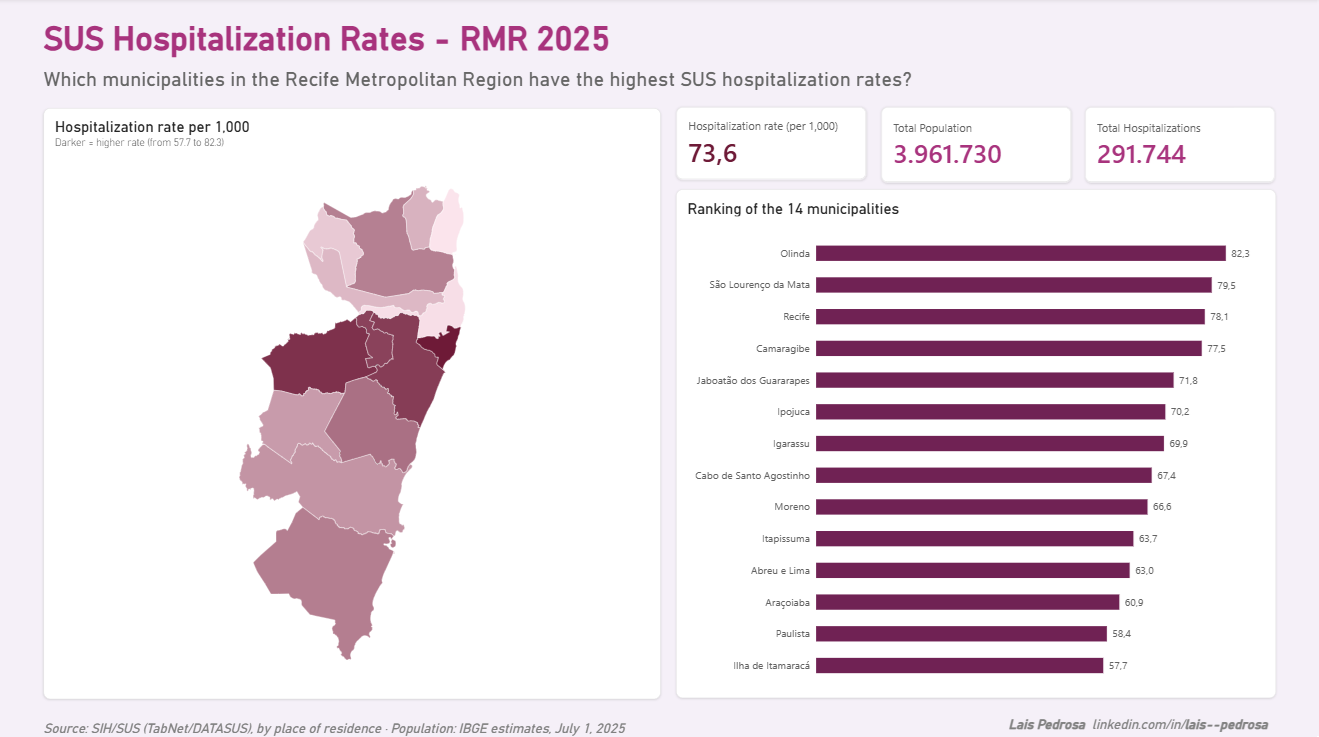

The page's visual inventory and layout, read from the dashboard file:
{"tool":"powerbi","page":{"name":"Overview","canvas":[1920,1080],"ordinal":0},"visuals":[{"type":"shapeMap","title":"Hospitalization rate per 1,000","fields":{"Category":["RMR.Municipality code"],"Value":["RMR.Hospitalization rate (per 1,000)"]},"box":[68.8,159.3,894,856],"z":0},{"type":"cardVisual","fields":{"Data":["RMR.Total Hospitalizations"]},"box":[1576.3,157.4,276,110.4],"z":1000},{"type":"cardVisual","fields":{"Data":["RMR.Total Population"]},"box":[1280.3,157.4,276,110.4],"z":2000},{"type":"cardVisual","fields":{"Data":["RMR.RMR Rate"]},"box":[984.5,157.4,276,106.8],"z":3000},{"type":"barChart","title":"Ranking of the 14 municipalities","fields":{"Category":["RMR.Municipality"],"Y":["RMR.RMR Rate"]},"box":[984.5,276.9,868.6,736.5],"z":4000},{"type":"textbox","box":[713,0,211.7,133.9],"z":5000},{"type":"textbox","box":[68.8,30.8,1035.1,124.9],"z":6000},{"type":"textbox","box":[68.8,99.5,1721,52.5],"z":7000},{"type":"textbox","box":[68.8,1040.2,1109.3,39.8],"z":8000},{"type":"textbox","box":[1465.8,1040.6,387.3,39.8],"z":9000}]}

Visuals, with their boxes in screenshot pixels (x1, y1, x2, y2), scaled from the page's 1920x1080 canvas onto the 1319x737 screenshot:
"Hospitalization rate per 1,000" shapeMap: 47 109 661 693
cardVisual - RMR.Total Hospitalizations: 1083 107 1272 183
cardVisual - RMR.Total Population: 880 107 1069 183
cardVisual - RMR.RMR Rate: 676 107 866 180
"Ranking of the 14 municipalities" barChart: 676 189 1273 692
textbox: 490 0 635 91
textbox: 47 21 758 106
textbox: 47 68 1230 104
textbox: 47 710 809 736
textbox: 1007 710 1273 736
